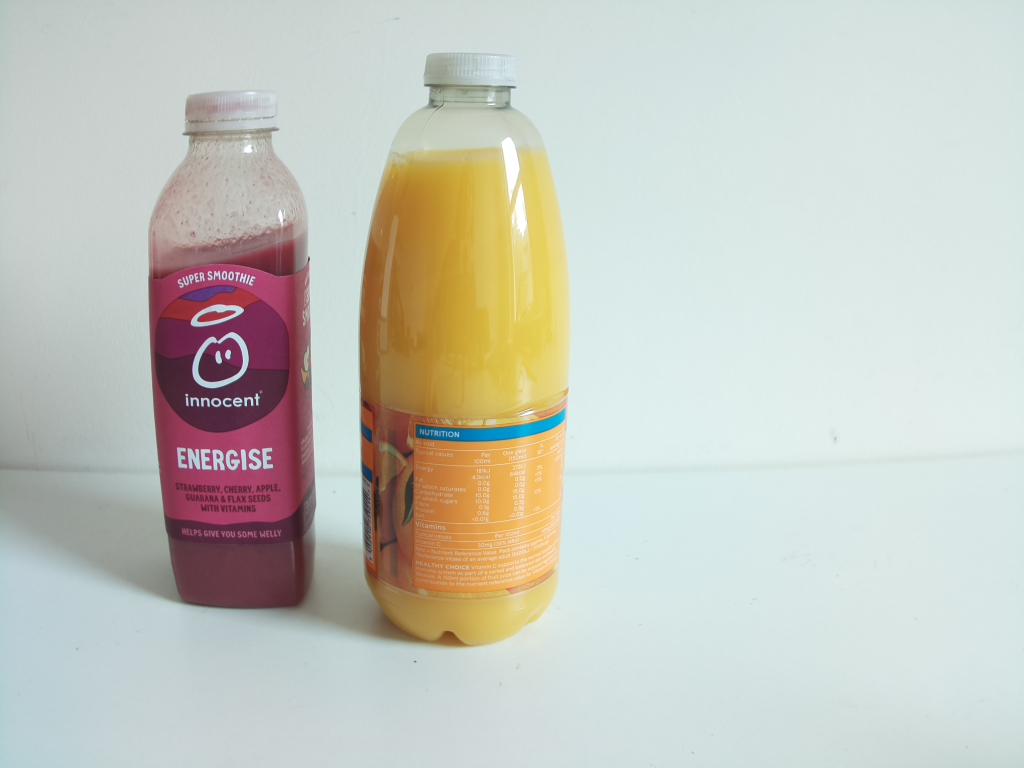juice: (359, 45, 575, 642), (147, 84, 331, 614)
